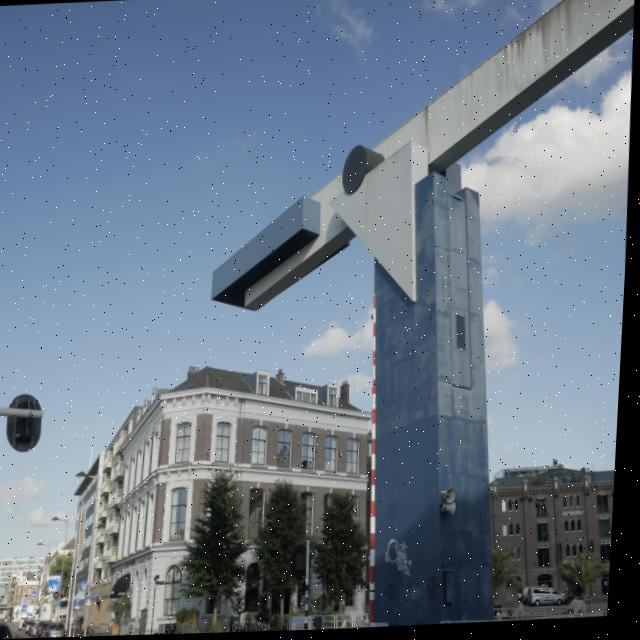building: (71, 352, 380, 623), (481, 457, 615, 602)
